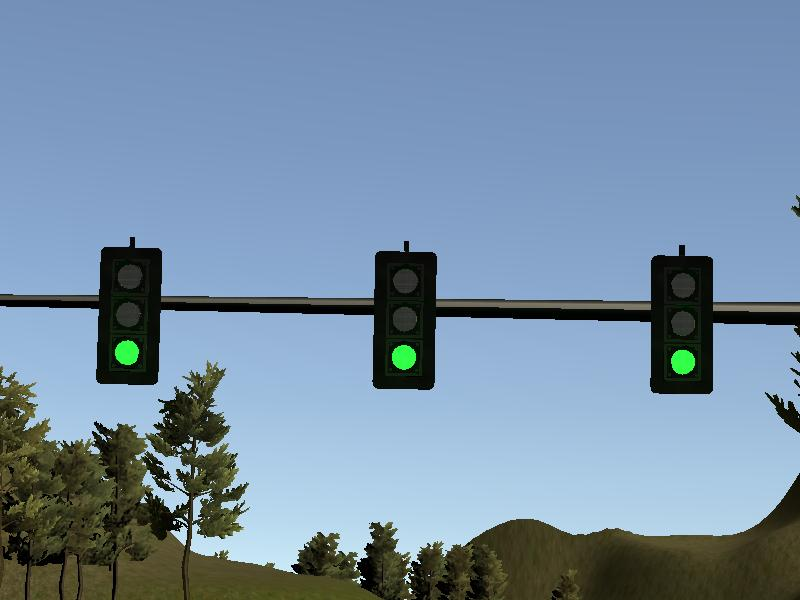green: (96, 247, 160, 384), (372, 250, 436, 387), (651, 255, 715, 392)
